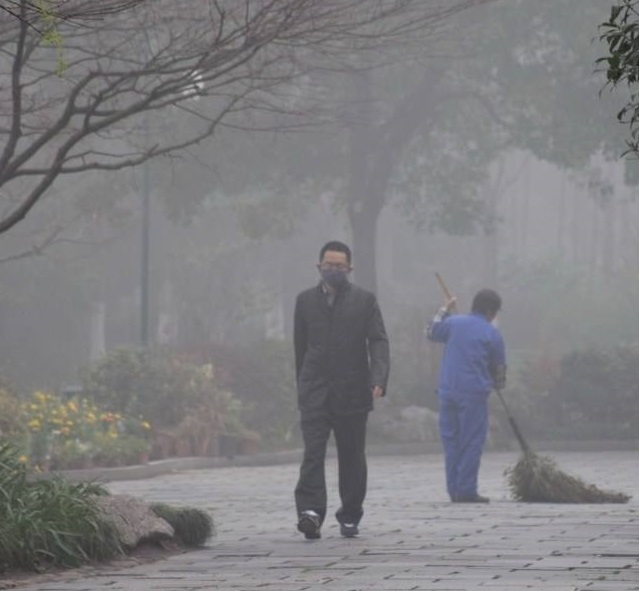person: (293, 239, 392, 545), (425, 285, 513, 507)
